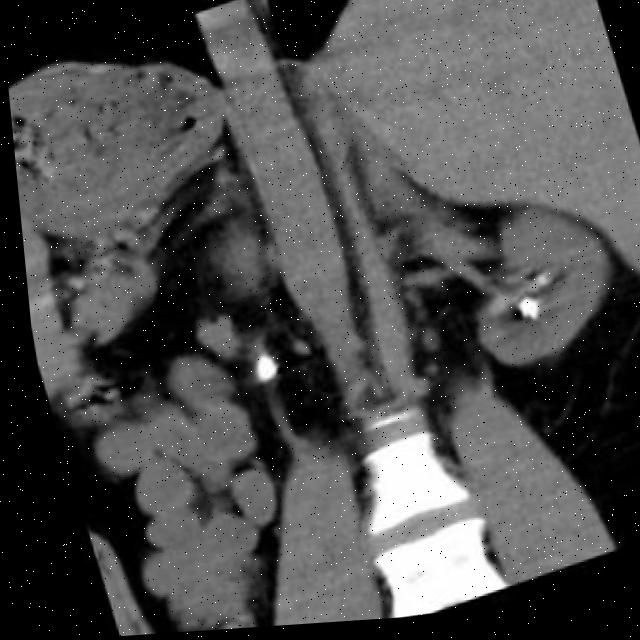Tas_Var: (234, 343, 276, 397), (503, 296, 535, 338), (520, 271, 548, 298)
